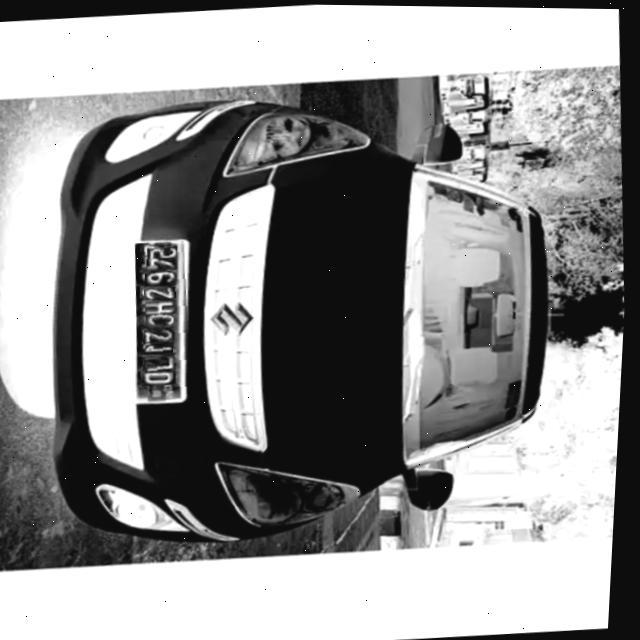1: (146, 341, 176, 354)
2: (145, 326, 176, 343), (144, 284, 178, 299)
4: (147, 256, 180, 270)
5: (147, 243, 179, 258)
6: (145, 269, 179, 286)
C: (146, 311, 176, 328)
D: (143, 369, 179, 385)
H: (146, 298, 180, 314)
IND: (150, 384, 183, 402)
Indian_registered: (137, 240, 189, 401)
L: (145, 353, 177, 372)
